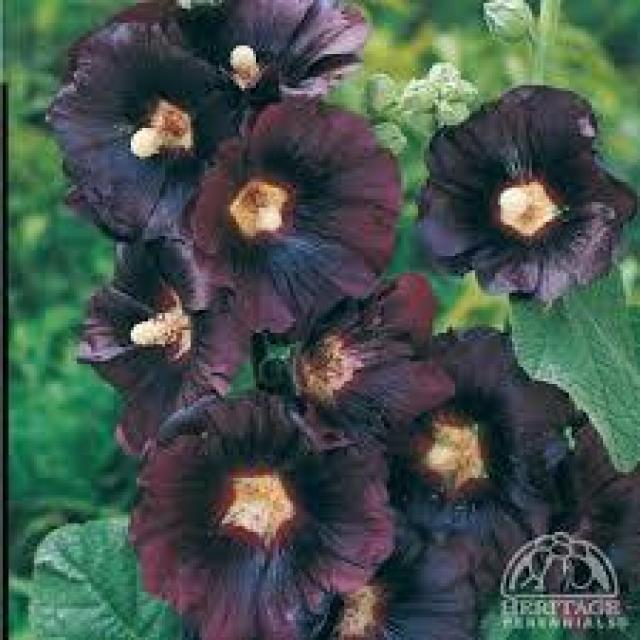organic waste: (314, 326, 573, 622), (130, 401, 382, 629), (188, 104, 398, 343), (420, 77, 630, 307), (49, 24, 254, 240), (90, 228, 254, 450)
